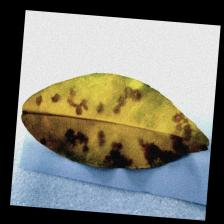canker: (33, 88, 193, 168)
